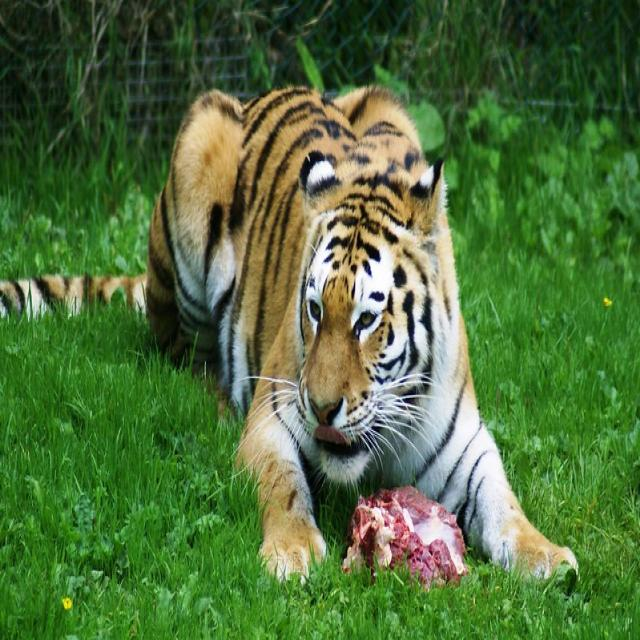Tiger: (91, 82, 576, 595)
